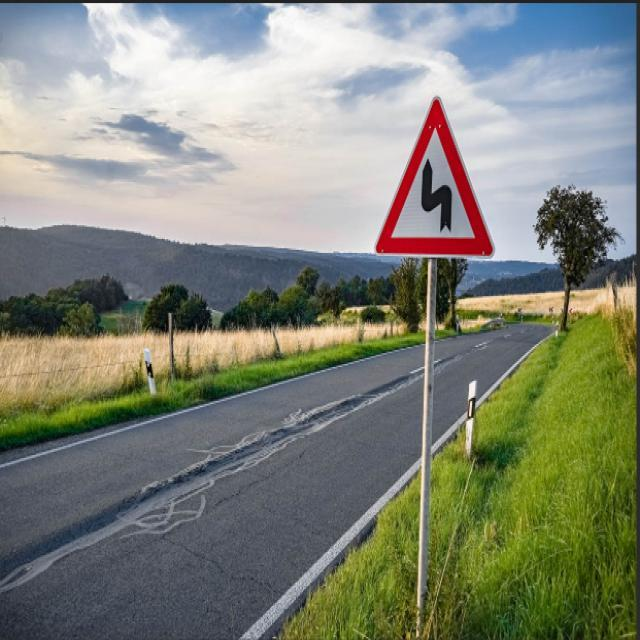warn_double_curve: (372, 94, 496, 258)
